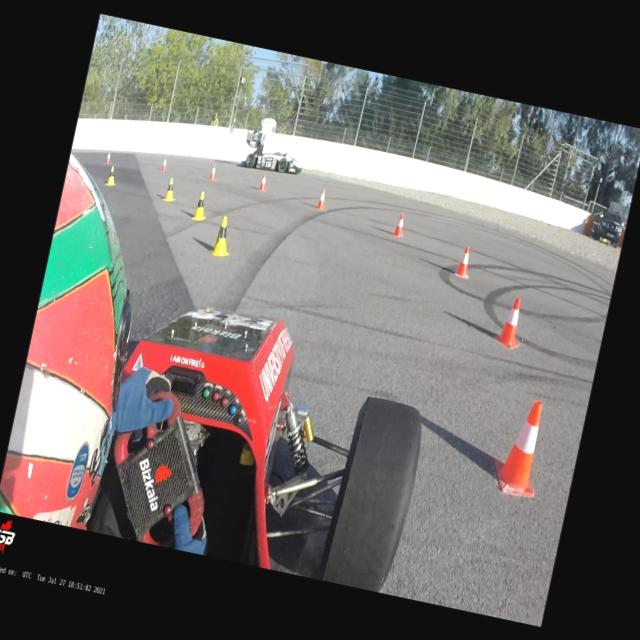orange_cone: (487, 395, 553, 499), (492, 294, 528, 350), (453, 244, 473, 279), (392, 211, 408, 238), (316, 187, 328, 210), (257, 172, 269, 192), (208, 163, 218, 180), (104, 150, 113, 164), (160, 157, 168, 171)
yellow_cone: (209, 214, 236, 258), (191, 189, 210, 221), (162, 176, 179, 202), (105, 164, 118, 187)
